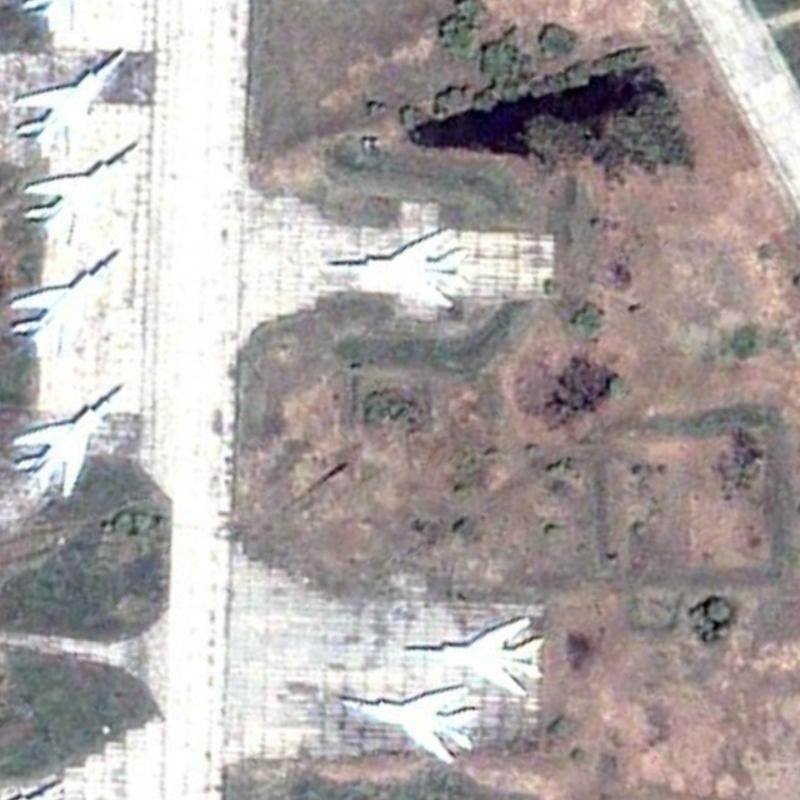A12: (10, 44, 132, 160), (19, 134, 144, 246), (321, 223, 476, 313), (9, 379, 124, 500), (5, 243, 123, 358), (395, 613, 548, 698), (337, 682, 481, 767)
